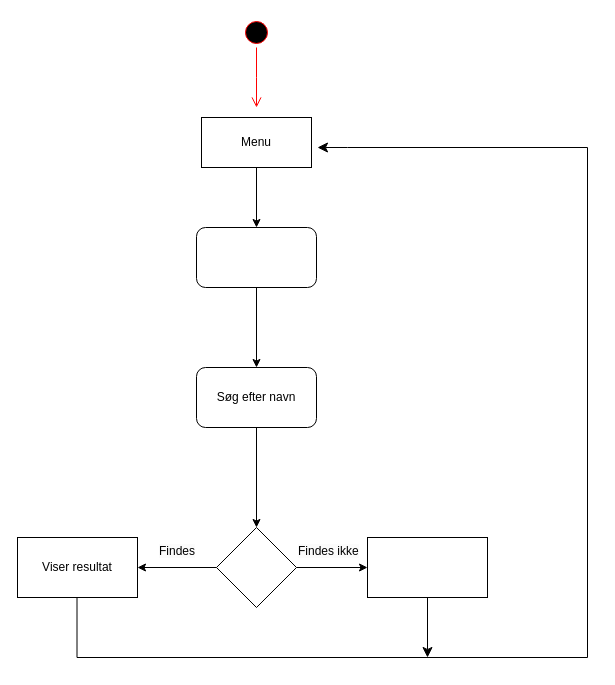
The diagram is 615 pixels wide and 685 high, and some of its shapes have lost their labels. Each missing label, with the centre of its shape:
Der trykkes "3" (Find superhero): pixel 256 257
udskriv "ikke fundet": pixel 427 567
